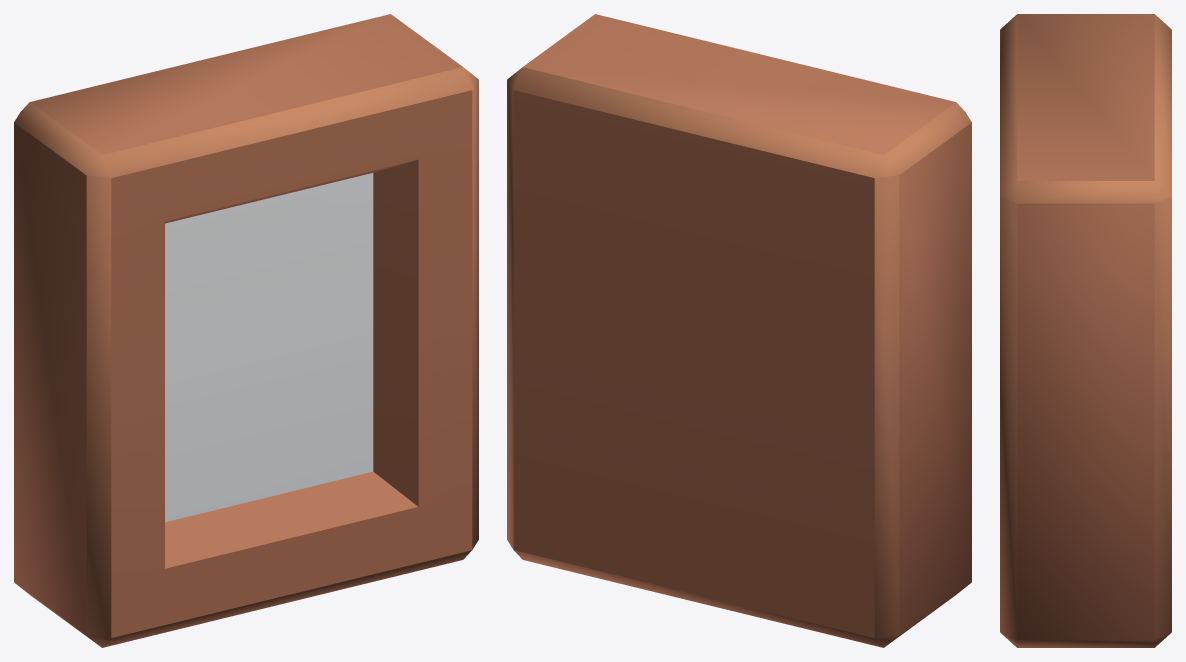
The model's file is kkf.pictureframe_small_a.glb.
The picture shows the model from 3 angles, left to right: view 1: azimuth 30°, elevation 25°; view 2: azimuth 150°, elevation 25°; view 3: azimuth 270°, elevation 25°; orthographic projection. The views are drawn at different scales.
Visible parts, largest first — view 1: pictureframe_small_A; view 2: pictureframe_small_A; view 3: pictureframe_small_A.
Part boxes in pixels (x1,y1,x2,y2): pictureframe_small_A: (14,14,478,647); pictureframe_small_A: (507,14,971,647); pictureframe_small_A: (1000,14,1171,647).
Size of the model in its own units: 0.1789 by 0.2146 by 0.0715.
1 material, 1 textured.
